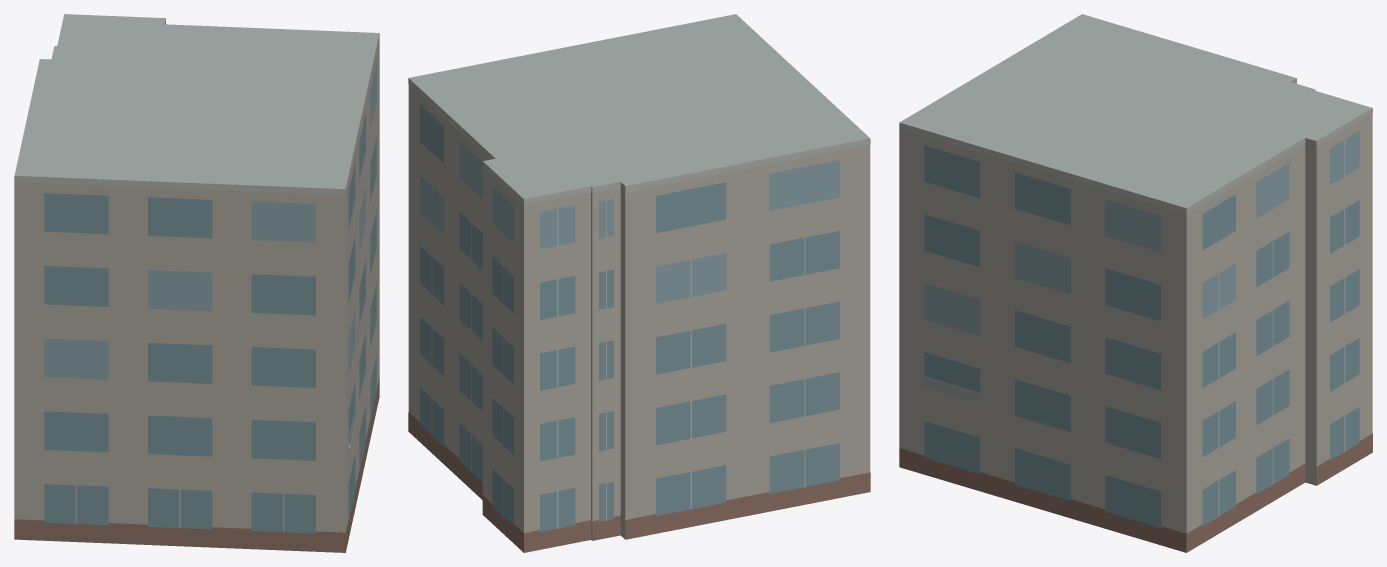
File: survey-upis-32991035.glb
3 views of the same model, side by side, from view 1: azimuth 30°, elevation 25°; view 2: azimuth 150°, elevation 25°; view 3: azimuth 270°, elevation 25° (orthographic). The views are drawn at different scales.
Visible parts, largest first — view 1: survey-upis-32991035.tmp; view 2: survey-upis-32991035.tmp; view 3: survey-upis-32991035.tmp.
Part boxes in pixels (x1,y1,x2,y2): survey-upis-32991035.tmp: (14, 14, 379, 552); survey-upis-32991035.tmp: (408, 14, 870, 552); survey-upis-32991035.tmp: (899, 14, 1372, 552).
Bounding box in the file's own units: 16.81 × 13.9 × 17.31.
